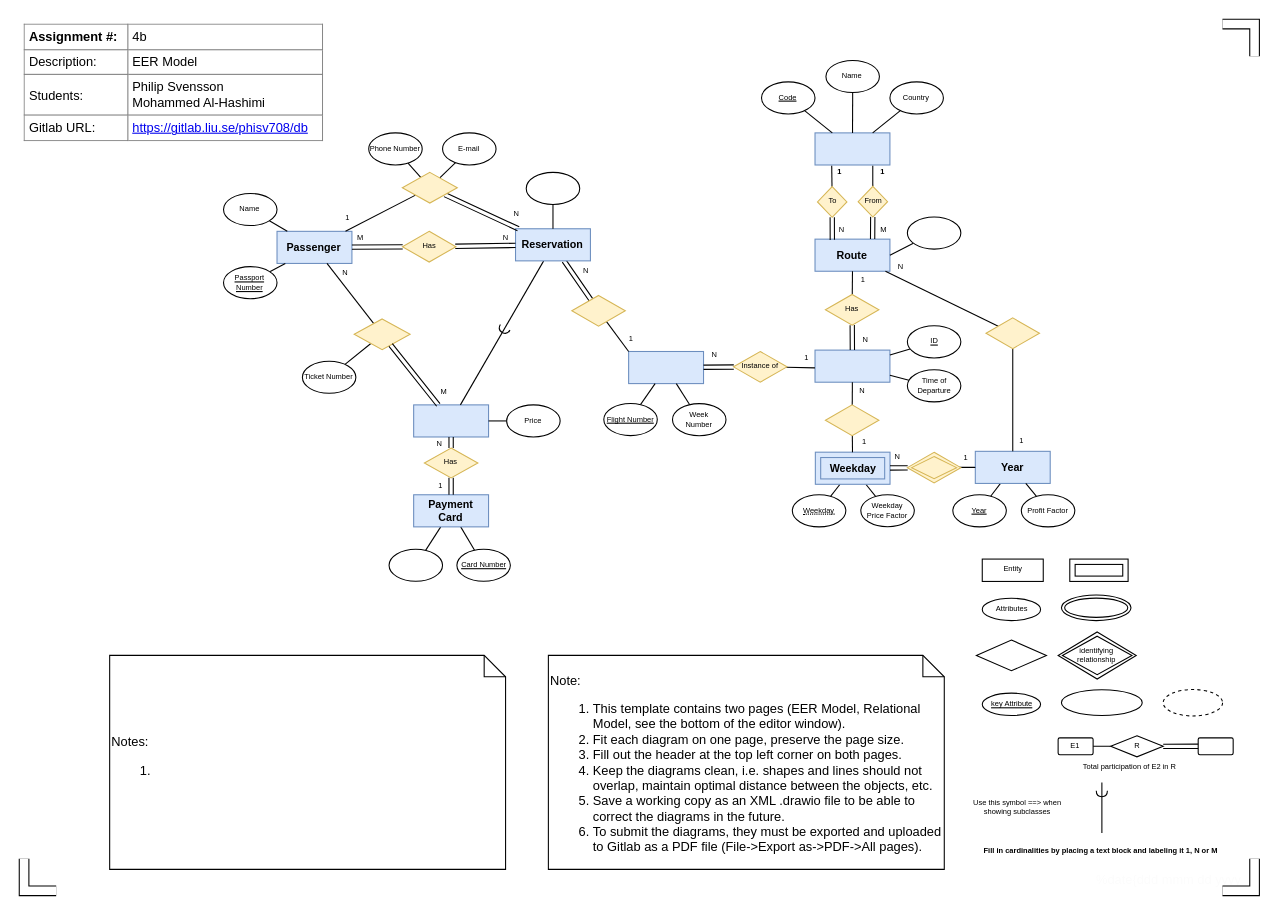
Image size: 1279x919. Some labels were removed from this diagram. The box of each missing label's shape, as (x1, y1, x2, y2) in pixels:
Affects price: (985, 317, 1040, 349)
Airport: (814, 132, 890, 165)
Booking: (413, 404, 489, 437)
Card Holder: (388, 548, 443, 581)
derived attribute: (1162, 688, 1223, 716)
E2: (1197, 737, 1233, 755)
Flight: (628, 350, 704, 384)
For: (824, 404, 879, 436)
Has ticket: (353, 318, 410, 350)
In: (906, 451, 961, 483)
Is contact: (401, 171, 457, 203)
multivalued attribute: (1060, 594, 1131, 621)
part of key attribute: (1060, 689, 1142, 716)
R eservation Number: (525, 171, 580, 204)
Regarding flight: (571, 294, 625, 326)
Relationship: (975, 639, 1046, 671)
Route Price: (906, 216, 961, 249)
weak entity: (1069, 558, 1128, 581)
Weekly Schedule: (814, 349, 890, 382)
